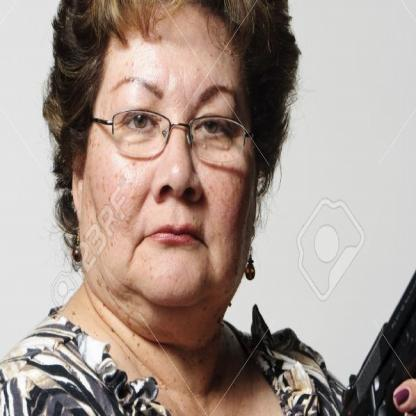gun: (334, 168, 415, 415)
